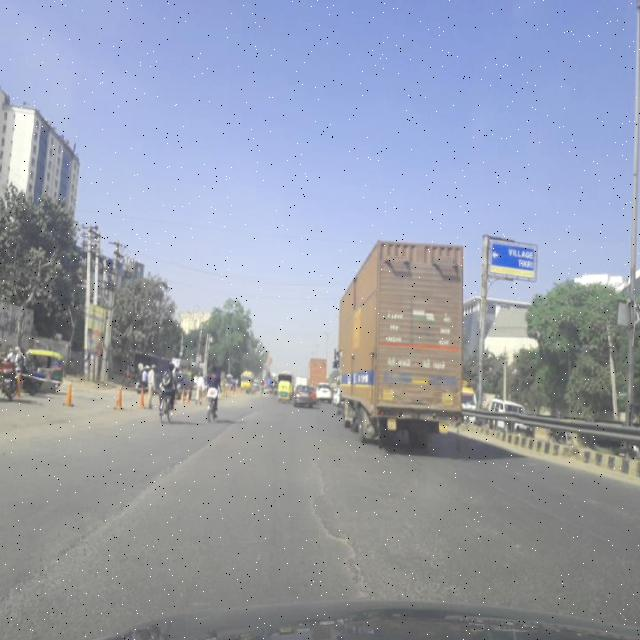D01: (52, 418, 233, 560)
